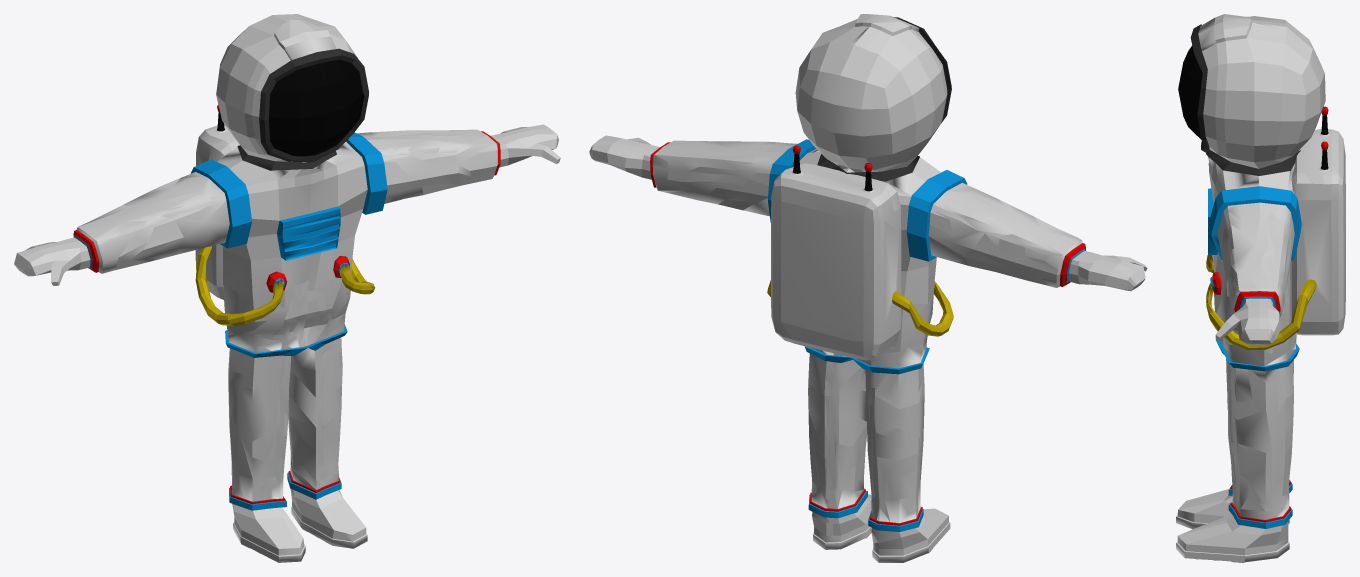
Rendered from Astronaunt.obj.
The picture shows the model from 3 angles, left to right: view 1: azimuth 30°, elevation 25°; view 2: azimuth 150°, elevation 25°; view 3: azimuth 270°, elevation 25°; orthographic projection. The views are drawn at different scales.
Visible parts, largest first — view 1: Cube; view 2: Cube; view 3: Cube.
Part boxes in pixels (left/top/right/bottom): Cube: left=14, top=14, right=560, bottom=562; Cube: left=589, top=14, right=1147, bottom=562; Cube: left=1176, top=14, right=1345, bottom=562.
Bounding box in the file's own units: 6.93 × 6.29 × 1.87.
